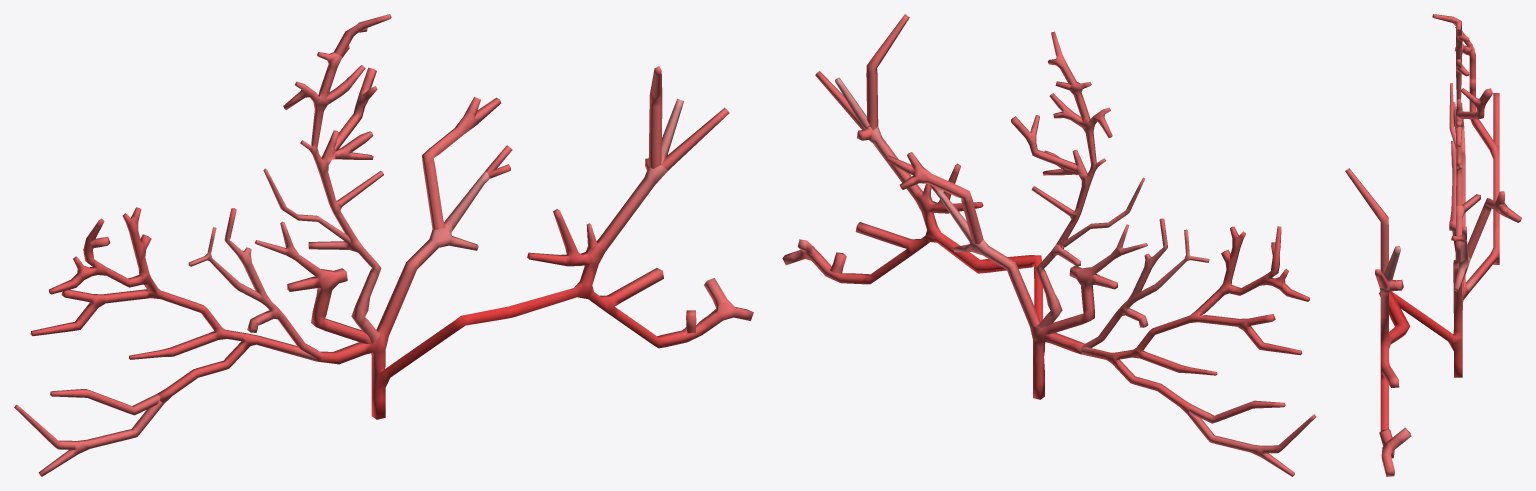
Rendered from Fan coral.glb.
The picture shows the model from 3 angles, left to right: view 1: azimuth 30°, elevation 25°; view 2: azimuth 150°, elevation 25°; view 3: azimuth 270°, elevation 25°; orthographic projection. The views are drawn at different scales.
Parts seen in each view (by area): view 1: Cube; view 2: Cube; view 3: Cube.
Boxes of the visible parts, x1=… form: Cube: x1=14, y1=14, x2=753, y2=476; Cube: x1=782, y1=14, x2=1316, y2=476; Cube: x1=1345, y1=14, x2=1521, y2=476.
Size of the model in its own units: 1.91 by 1.12 by 0.4969.
1 material, 1 textured.
